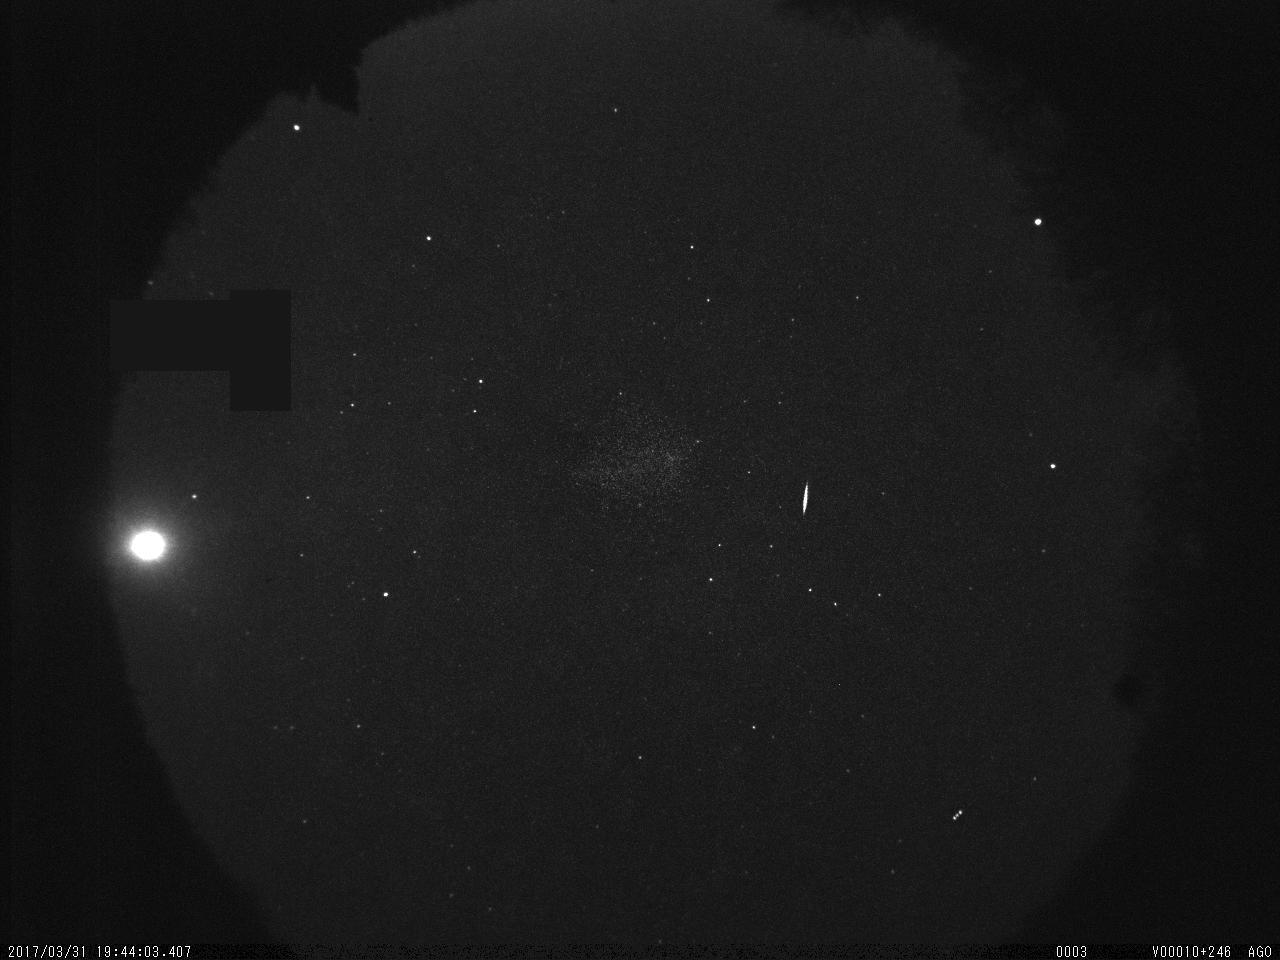meteor: (789, 478, 819, 518)
